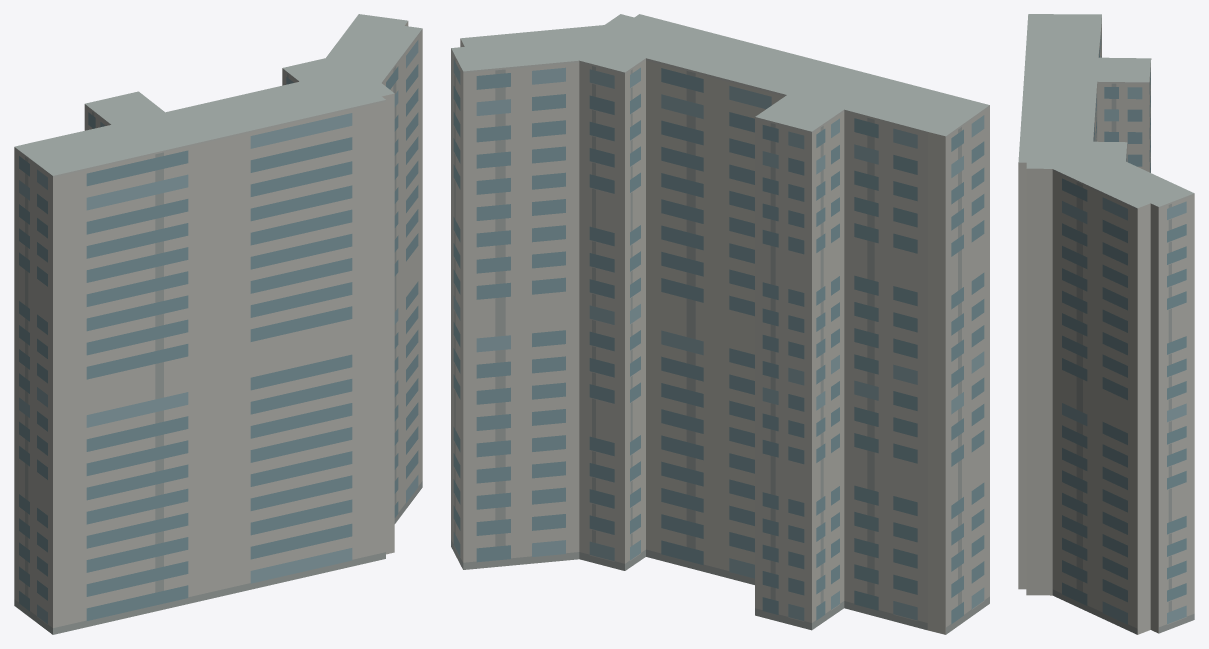
The model's file is residential-42058624-ba11-4abb-a050-12c3012d9ca1.glb.
The picture shows the model from 3 angles, left to right: view 1: azimuth 30°, elevation 25°; view 2: azimuth 150°, elevation 25°; view 3: azimuth 270°, elevation 25°; orthographic projection. The views are drawn at different scales.
Parts seen in each view (by area): view 1: residential-42058624-ba11-4abb-a050-12c3012d9ca1.tmp; view 2: residential-42058624-ba11-4abb-a050-12c3012d9ca1.tmp; view 3: residential-42058624-ba11-4abb-a050-12c3012d9ca1.tmp.
Part boxes in pixels (left/top/right/bottom): residential-42058624-ba11-4abb-a050-12c3012d9ca1.tmp: left=14, top=14, right=422, bottom=634; residential-42058624-ba11-4abb-a050-12c3012d9ca1.tmp: left=451, top=14, right=989, bottom=634; residential-42058624-ba11-4abb-a050-12c3012d9ca1.tmp: left=1018, top=14, right=1194, bottom=634.
Size of the model in its own units: 60.6 by 62 by 23.21.
